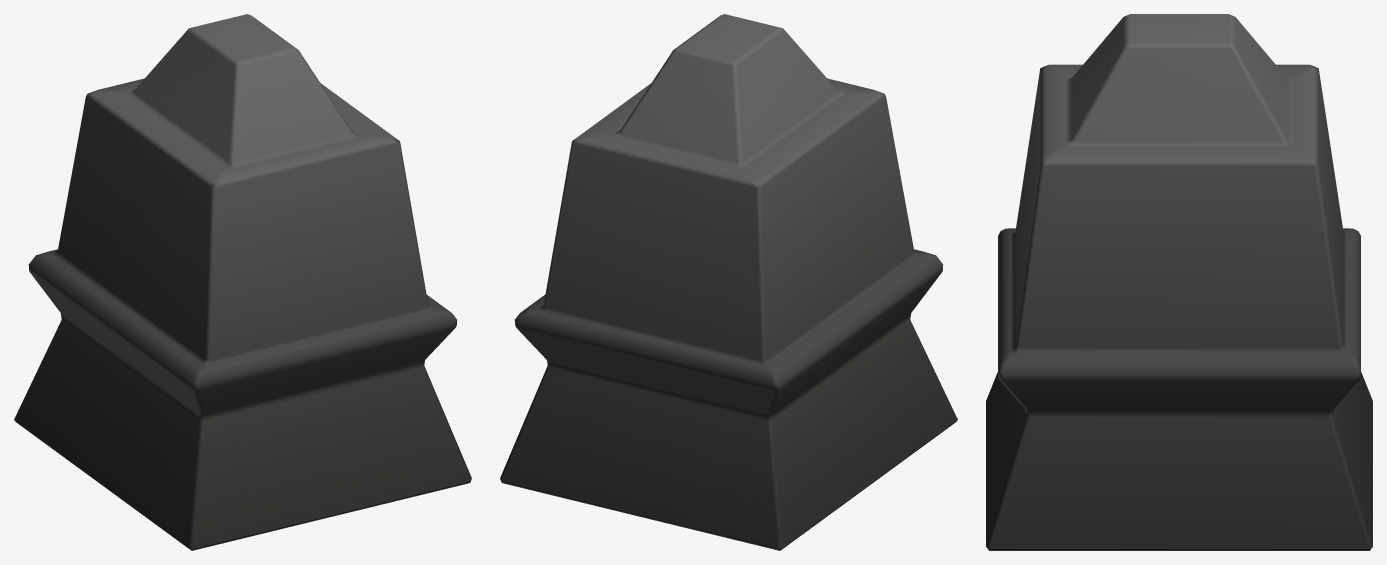
File: Pilar.fbx
3 renders of one model, left to right at view 1: azimuth 30°, elevation 25°; view 2: azimuth 150°, elevation 25°; view 3: azimuth 270°, elevation 25°, orthographic. The views are drawn at different scales.
Parts seen in each view (by area): view 1: mini pilar; view 2: mini pilar; view 3: mini pilar.
Part boxes in pixels (box(x1,y1,x2,y2)): mini pilar: box(14, 14, 471, 550); mini pilar: box(500, 14, 957, 550); mini pilar: box(986, 14, 1372, 550).
Bounding box in the file's own units: 161 × 225 × 176.
